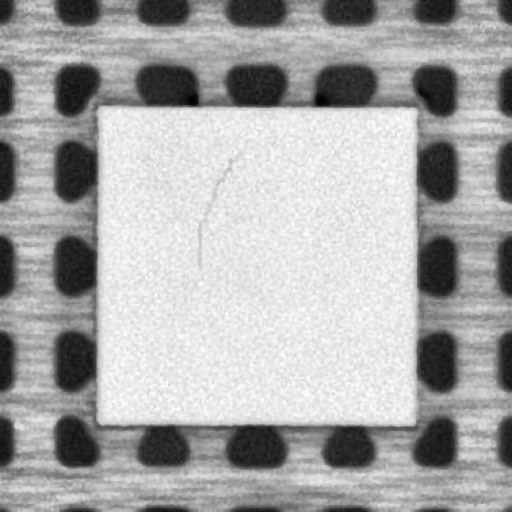DIE_CRACK: (192, 151, 237, 269)
